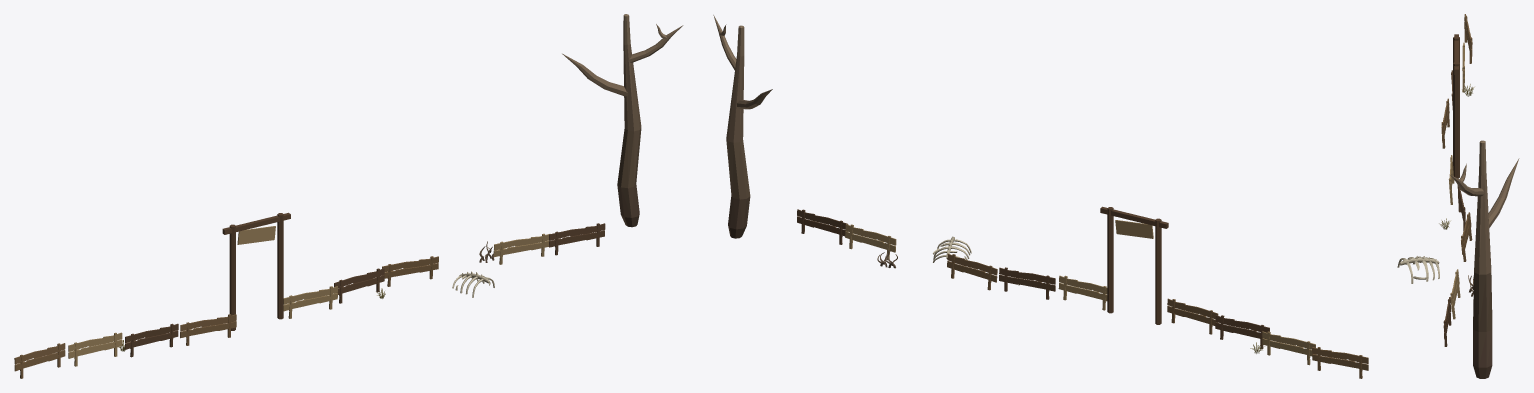
File: LmFence.glb
3 renders of one model, left to right at view 1: azimuth 30°, elevation 25°; view 2: azimuth 150°, elevation 25°; view 3: azimuth 270°, elevation 25°, orthographic. The views are drawn at different scales.
Parts seen in each view (by area): view 1: LmFence; view 2: LmFence; view 3: LmFence.
Part boxes in pixels (bbox=[...]): LmFence: bbox=[14, 14, 683, 378]; LmFence: bbox=[713, 15, 1368, 378]; LmFence: bbox=[1397, 14, 1519, 378].
Size of the model in its own units: 36.05 by 11 by 5.23.
